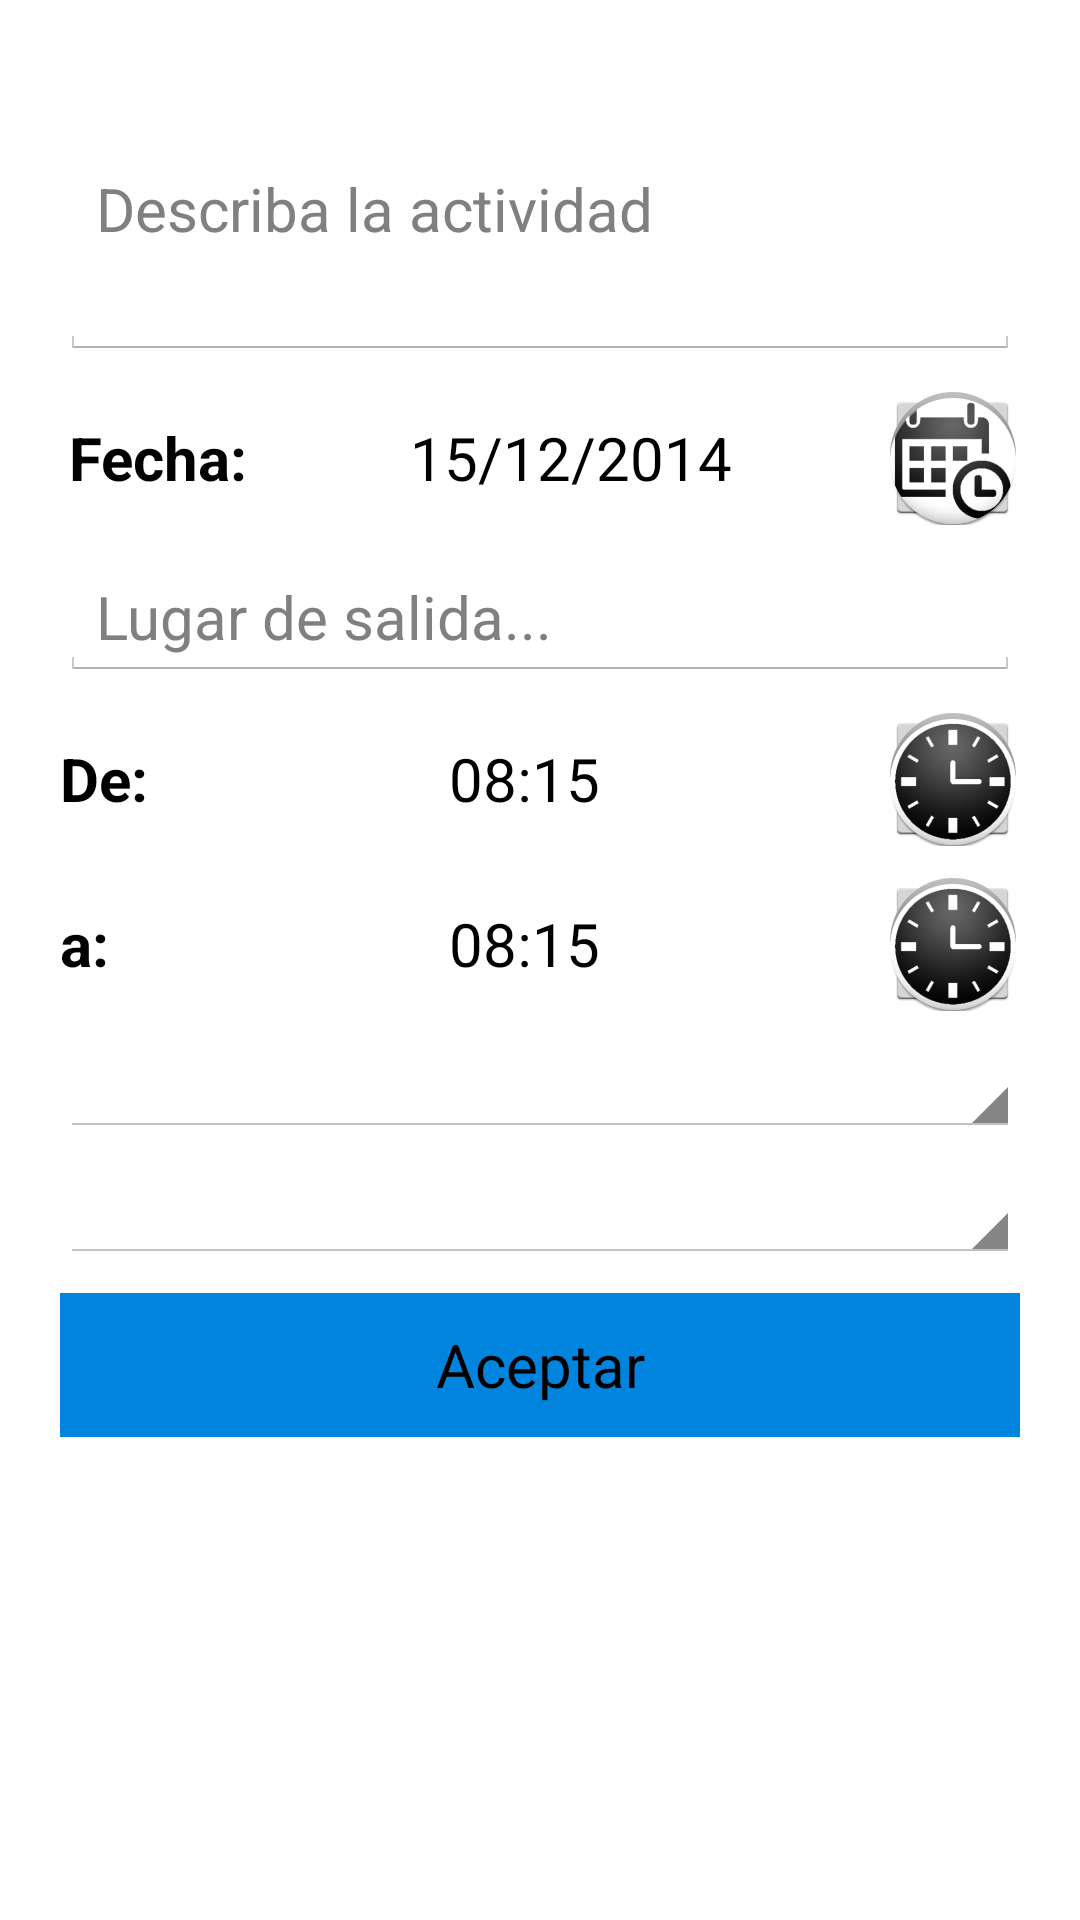

Icons on this 1080w x 1920h Android screen, each with the point to tap as [x,y]:
calendario: [953,458]
reloj: [953,779], [953,944]
